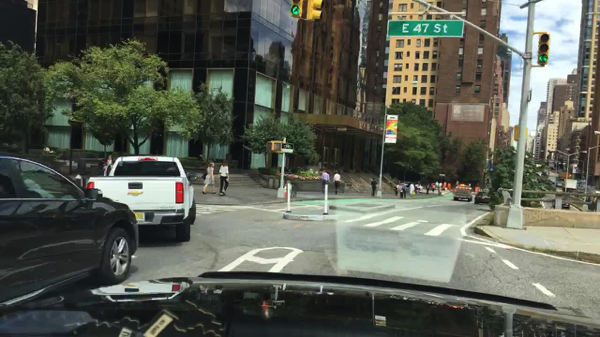car: (0, 149, 139, 320), (85, 154, 197, 242), (452, 184, 474, 202), (551, 198, 570, 211), (474, 191, 491, 205), (564, 178, 578, 193), (558, 170, 571, 180), (554, 180, 564, 189), (548, 170, 558, 177), (576, 186, 584, 193), (550, 177, 556, 184)
person: (200, 161, 218, 195), (218, 160, 229, 195), (319, 169, 330, 194), (101, 154, 113, 175), (331, 171, 341, 195), (369, 177, 377, 198), (405, 182, 416, 197), (399, 182, 407, 199), (592, 195, 598, 214), (436, 181, 443, 196), (473, 183, 481, 196), (398, 182, 404, 198), (394, 183, 401, 196), (101, 162, 107, 176), (440, 180, 447, 190), (433, 180, 439, 191), (414, 183, 420, 194), (42, 145, 51, 152), (429, 182, 434, 193), (425, 183, 430, 194), (445, 182, 451, 191), (453, 179, 459, 186)
traffic light: (536, 31, 550, 66), (290, 0, 314, 18), (308, 1, 324, 21), (266, 140, 282, 153)
traffic sign: (386, 16, 465, 38), (384, 113, 398, 143), (280, 142, 294, 154)
truck: (547, 159, 555, 170)
